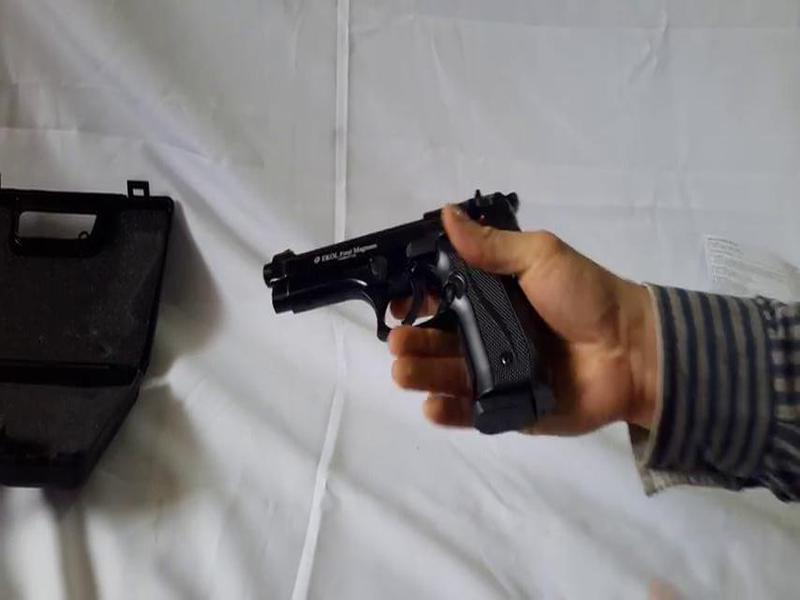Pistola: (235, 177, 564, 465)
